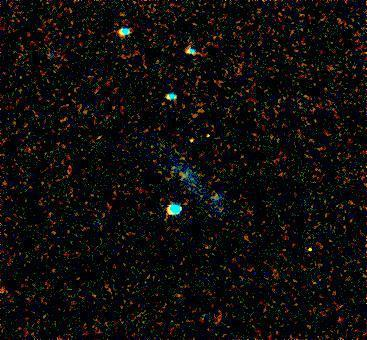star: (193, 122, 223, 152)
